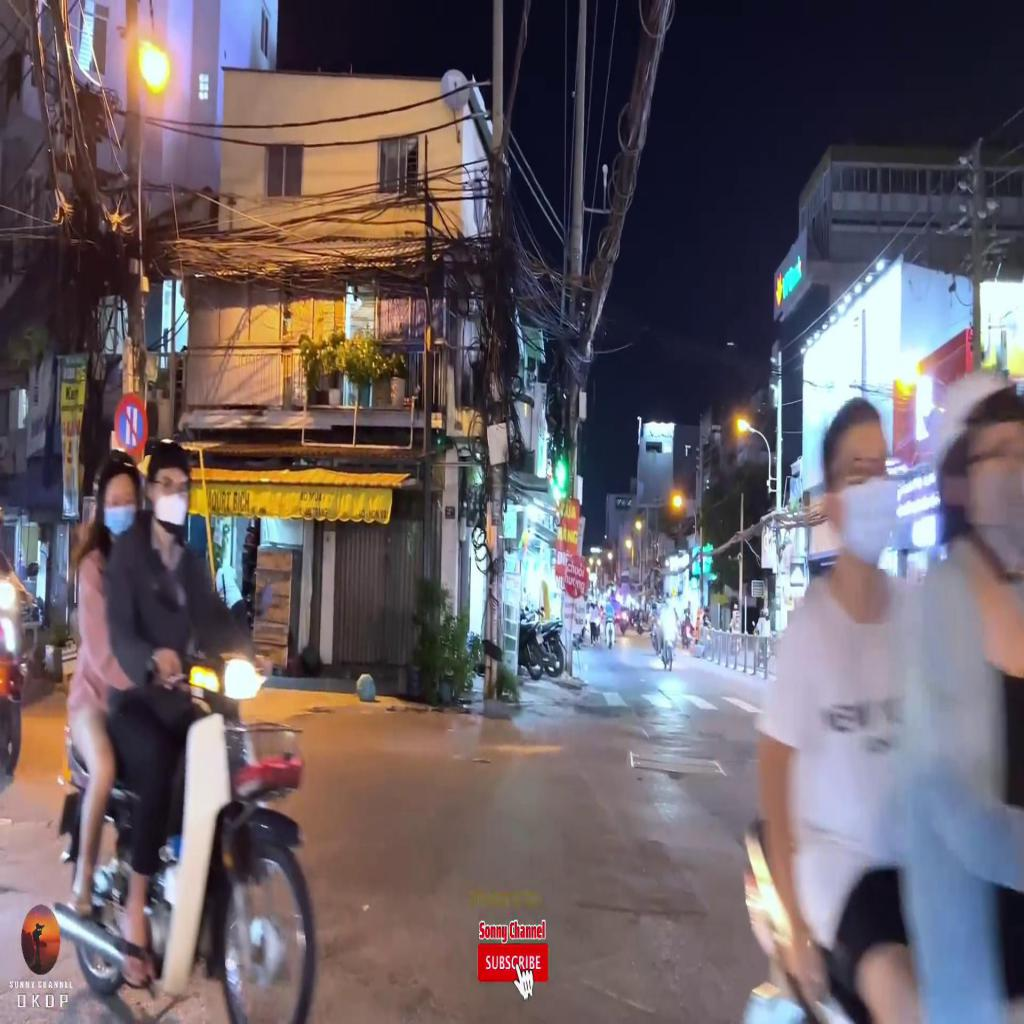cam_do_xe: (114, 393, 148, 455)
